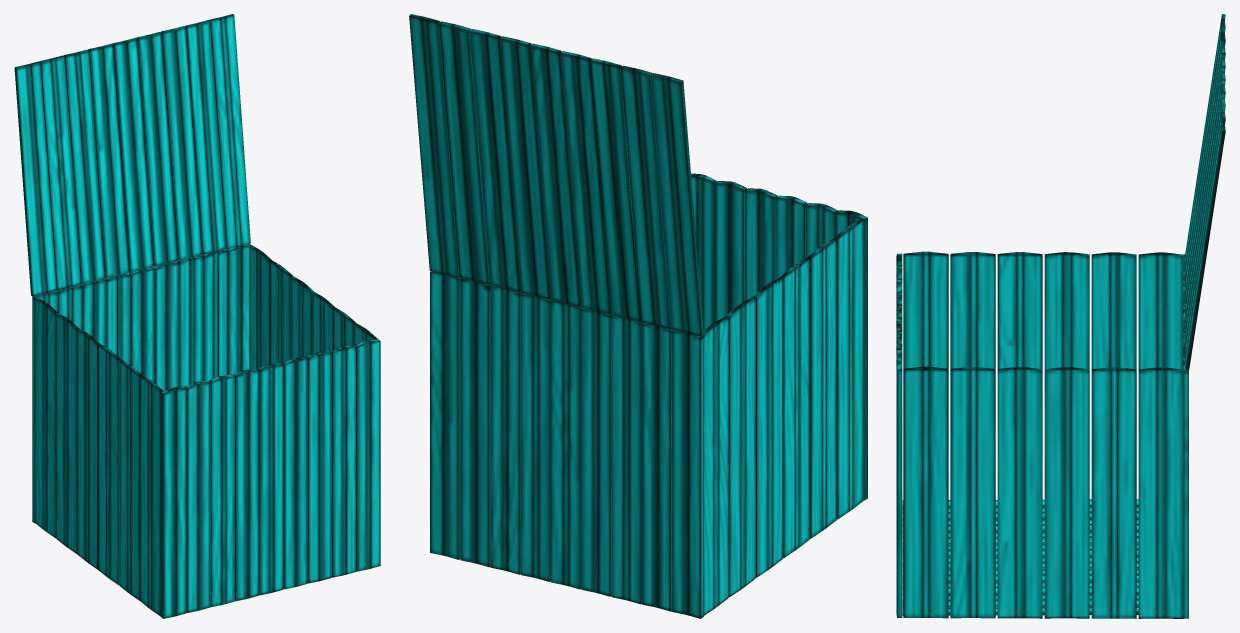
The model's file is Crate.fbx.
3 renders of one model, left to right at view 1: azimuth 30°, elevation 25°; view 2: azimuth 150°, elevation 25°; view 3: azimuth 270°, elevation 25°, orthographic. The views are drawn at different scales.
Parts seen in each view (by area): view 1: Crate; view 2: Crate; view 3: Crate.
Part boxes in pixels (x1,y1,x2,y2): Crate: (14,14,380,618); Crate: (409,14,867,618); Crate: (896,14,1225,618).
Bounding box in the file's own units: 23.5 × 45.45 × 27.83.
